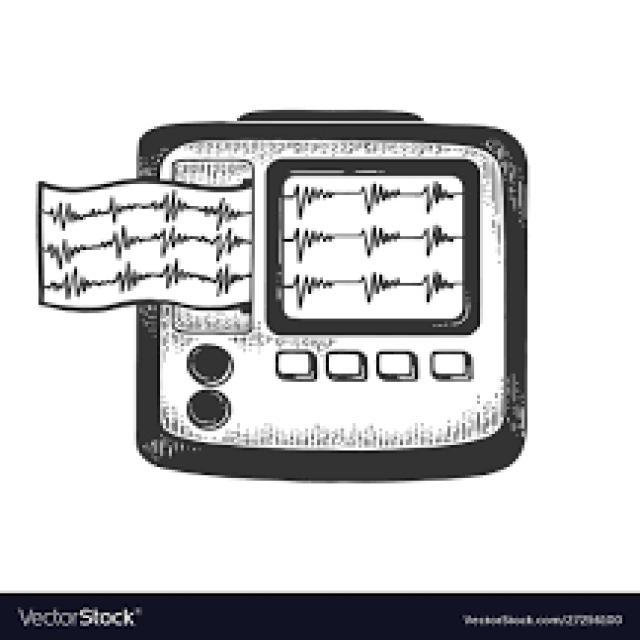cardiac_monitor: (127, 114, 522, 492)
